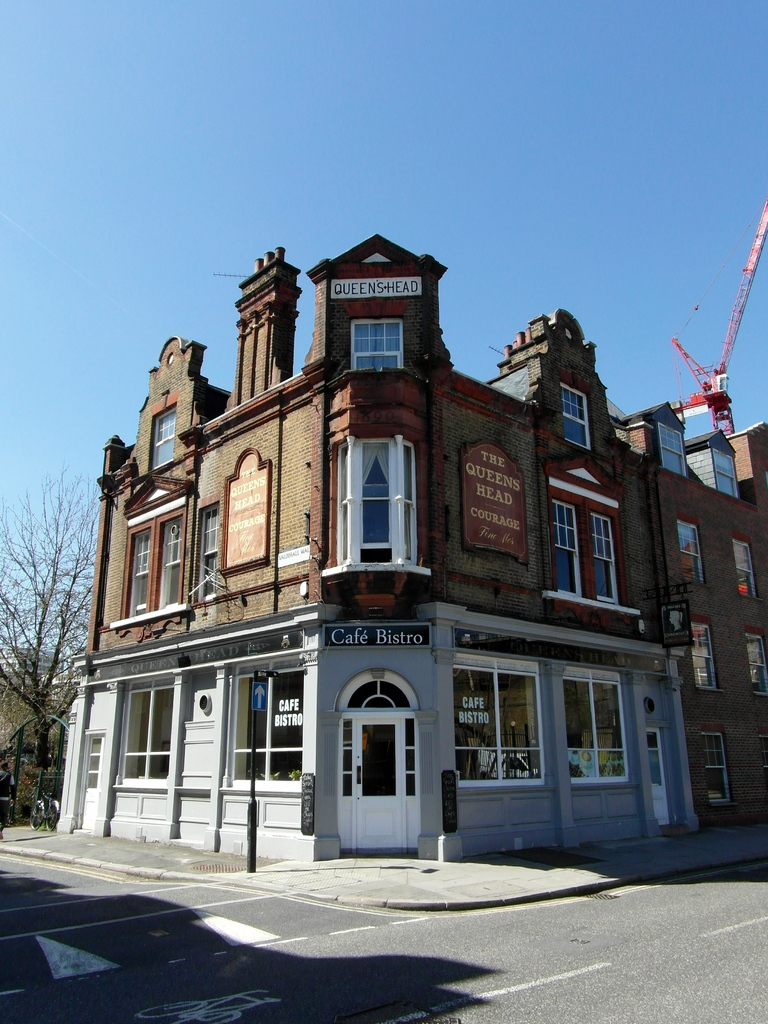Tree: (0, 450, 103, 832)
